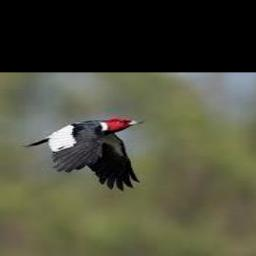Woodpecker: (22, 117, 144, 190)
